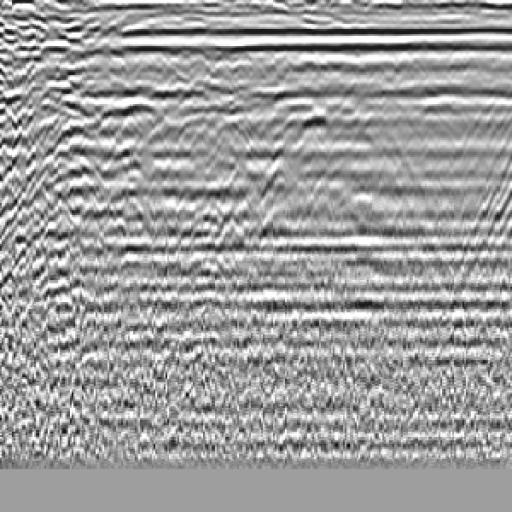metalic: (222, 70, 371, 269), (157, 77, 292, 287)
